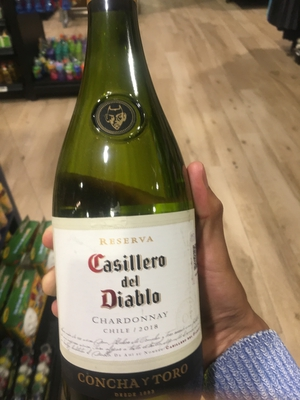casillero del diablo chardonnay: (46, 12, 208, 390)
